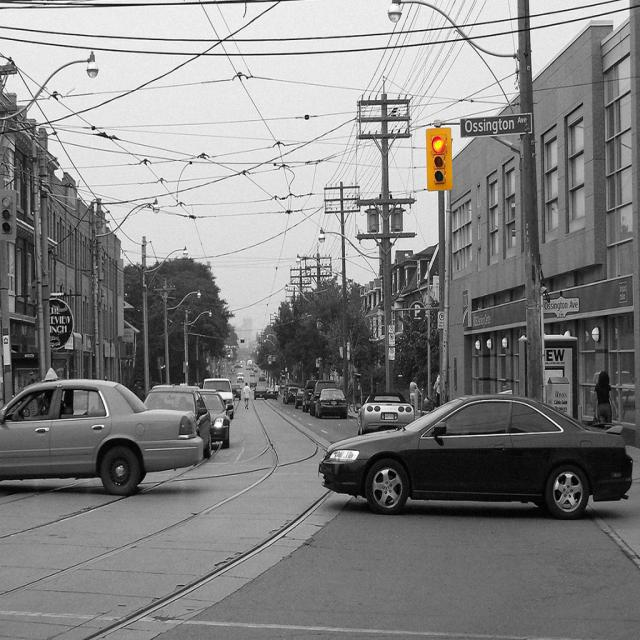car: (236, 368, 243, 380)
